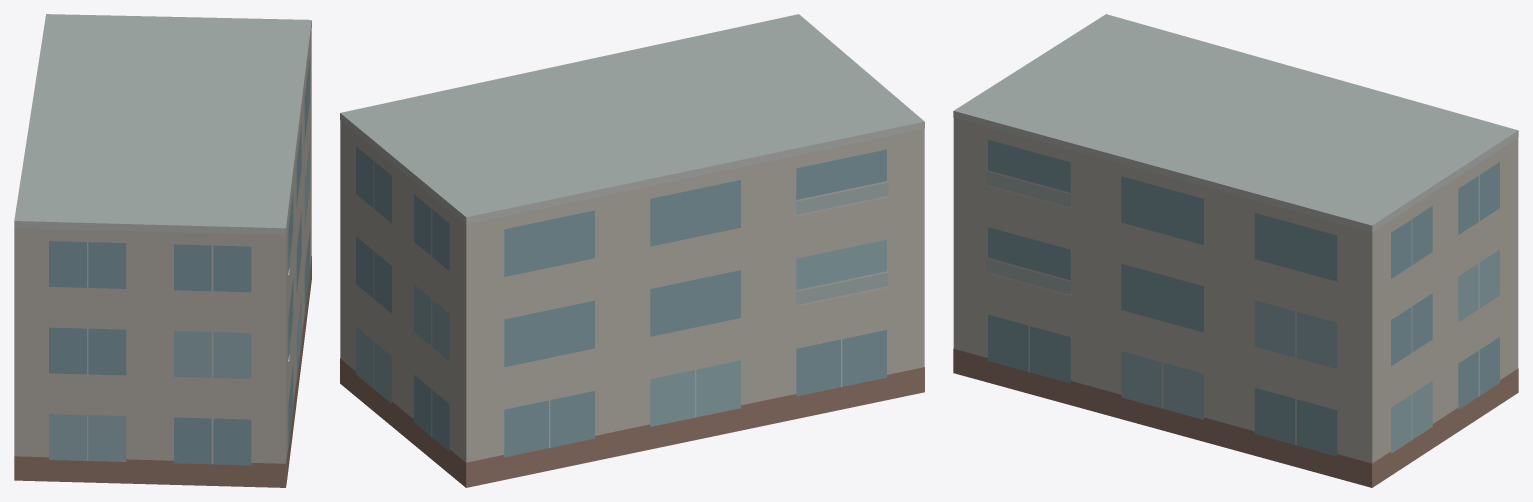
File: survey-upis-32609834.glb
The picture shows the model from 3 angles, left to right: view 1: azimuth 30°, elevation 25°; view 2: azimuth 150°, elevation 25°; view 3: azimuth 270°, elevation 25°; orthographic projection. The views are drawn at different scales.
Parts seen in each view (by area): view 1: survey-upis-32609834.tmp; view 2: survey-upis-32609834.tmp; view 3: survey-upis-32609834.tmp.
Part boxes in pixels (x1,y1,x2,y2): survey-upis-32609834.tmp: [14, 14, 311, 487]; survey-upis-32609834.tmp: [340, 14, 924, 487]; survey-upis-32609834.tmp: [953, 14, 1518, 487].
Bounding box in the file's own units: 15.84 × 9.15 × 17.87.
